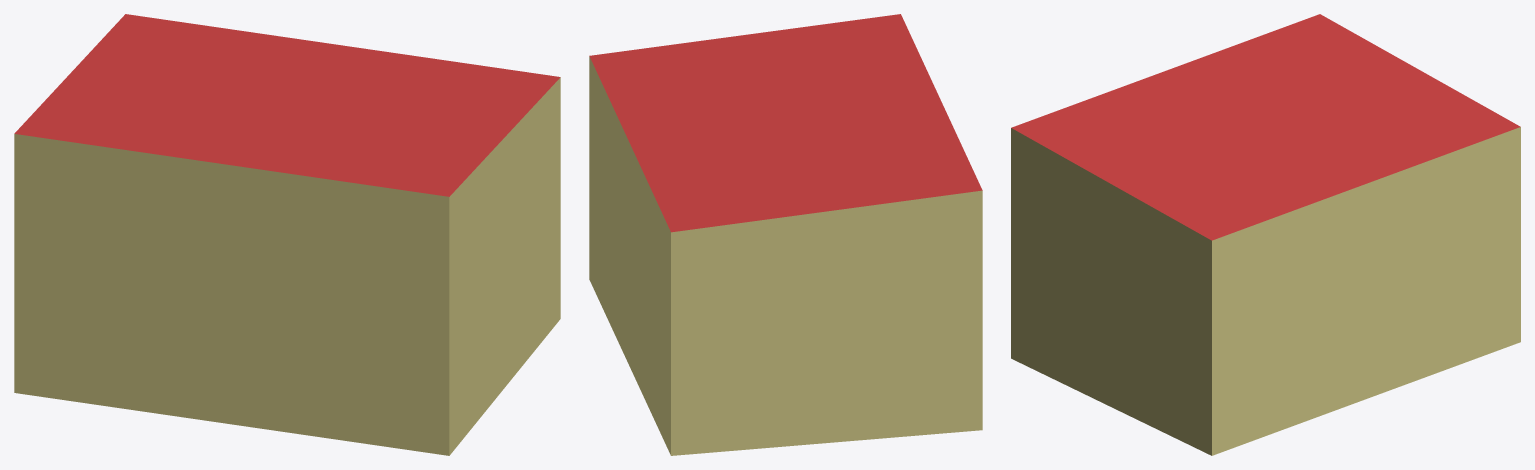
3 views of the same model, side by side, from view 1: azimuth 30°, elevation 25°; view 2: azimuth 150°, elevation 25°; view 3: azimuth 270°, elevation 25° (orthographic). The views are drawn at different scales.
Size of the model in its own units: 27.48 by 28.03 by 14.
